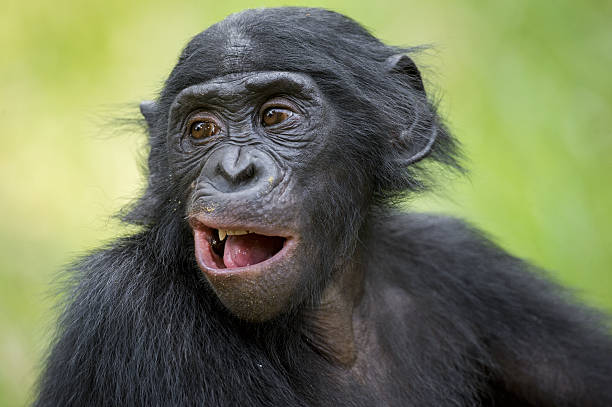chimpanzee: (118, 3, 485, 343)
